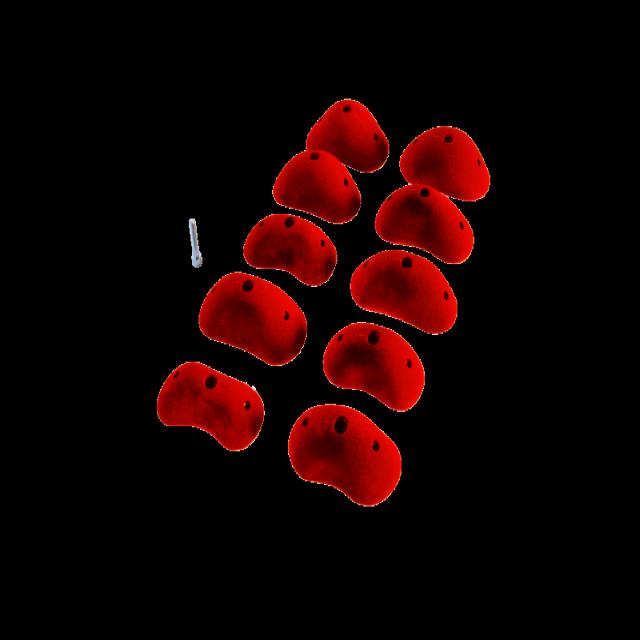Hold: (291, 412, 405, 504), (153, 363, 270, 450), (202, 273, 309, 363), (353, 248, 457, 332), (324, 315, 421, 402), (238, 215, 344, 292), (375, 186, 475, 267), (397, 116, 491, 196), (302, 87, 389, 173), (266, 149, 362, 225)
